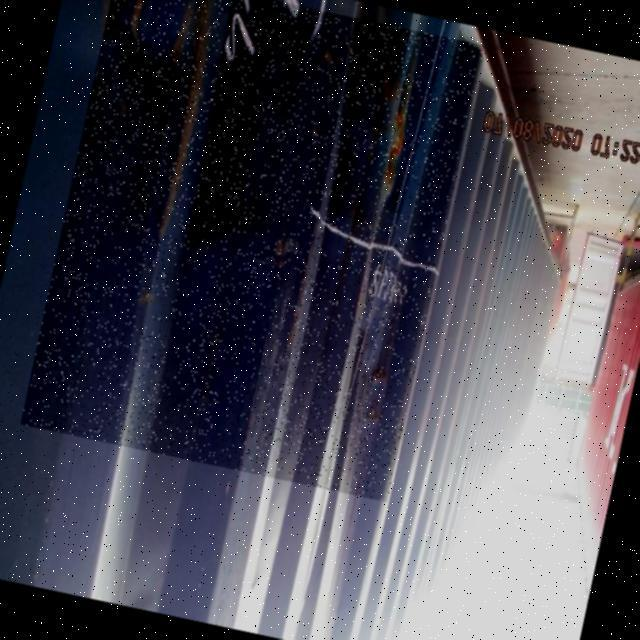Dent: (20, 0, 484, 502)
